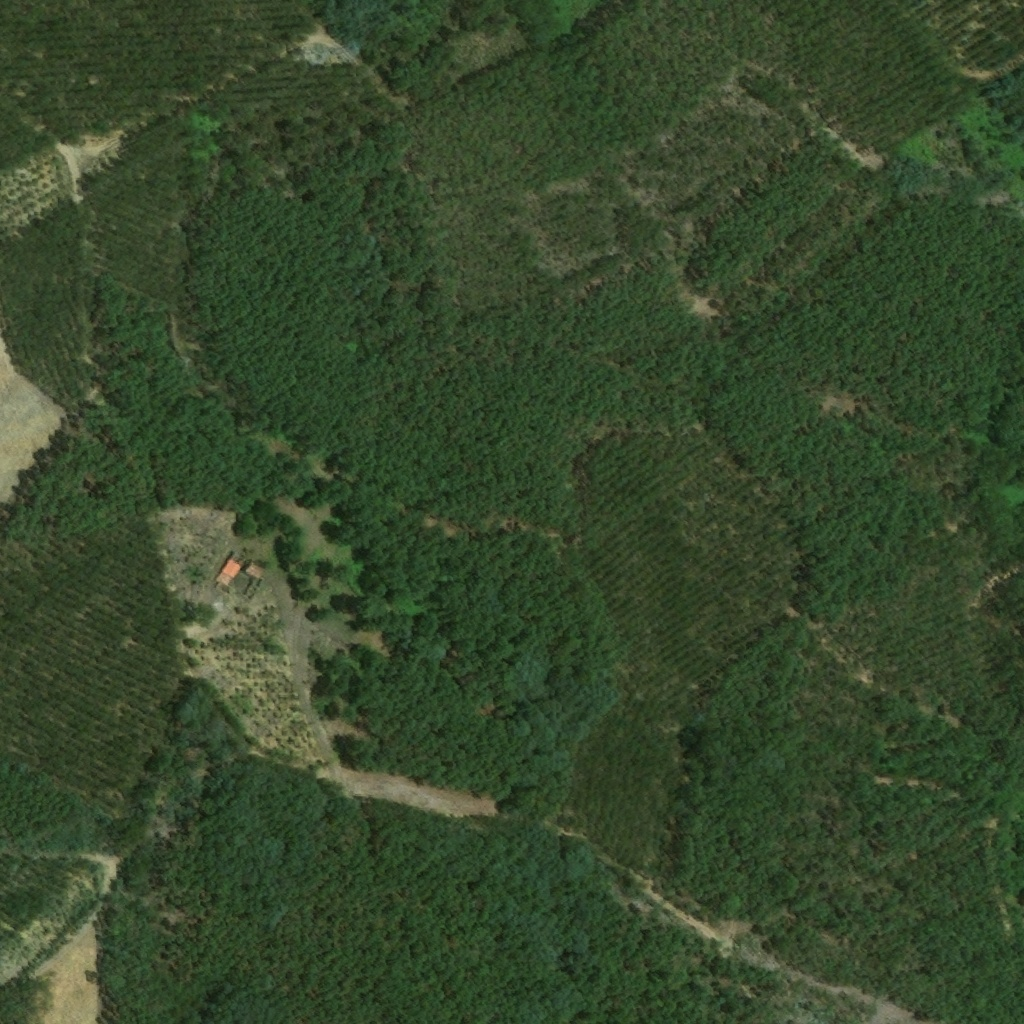0 no-damage: (214, 550, 248, 589), (245, 566, 262, 579)
